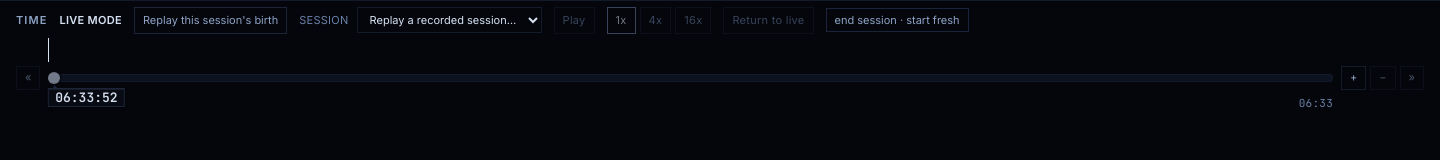
Scenario: ReplayControls — spend › switches the scrub line to dollars once an authoritative cost event lands
The image size is (1440, 160).
Select "1970-01-01T00:00:01.000Z" in the dropdown labelled "session": [449, 20] box [357,7,542,33]
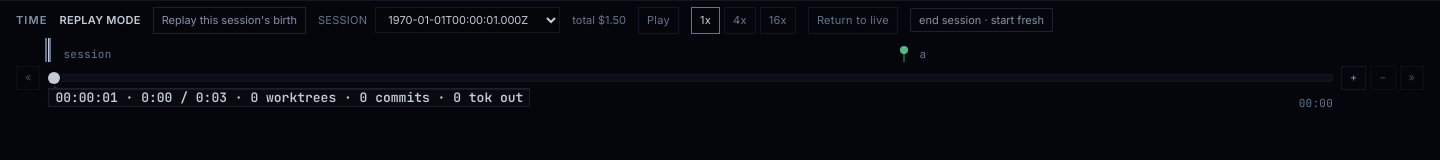
Set the slider named "Replay scrubber" to "4000": [1325, 78] box [48,72,1333,84]
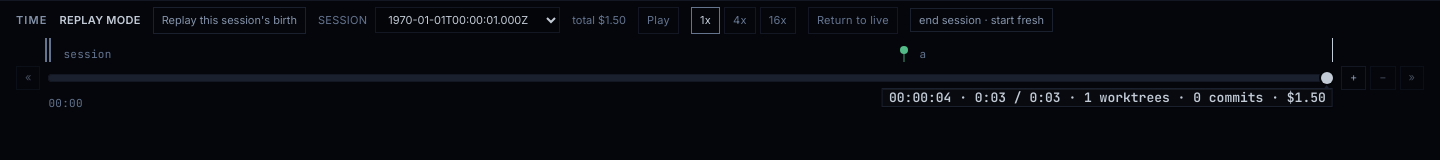
expect the text with test id "scrubber-readout" shows "$1.50": met, box [889,88,1326,106]
